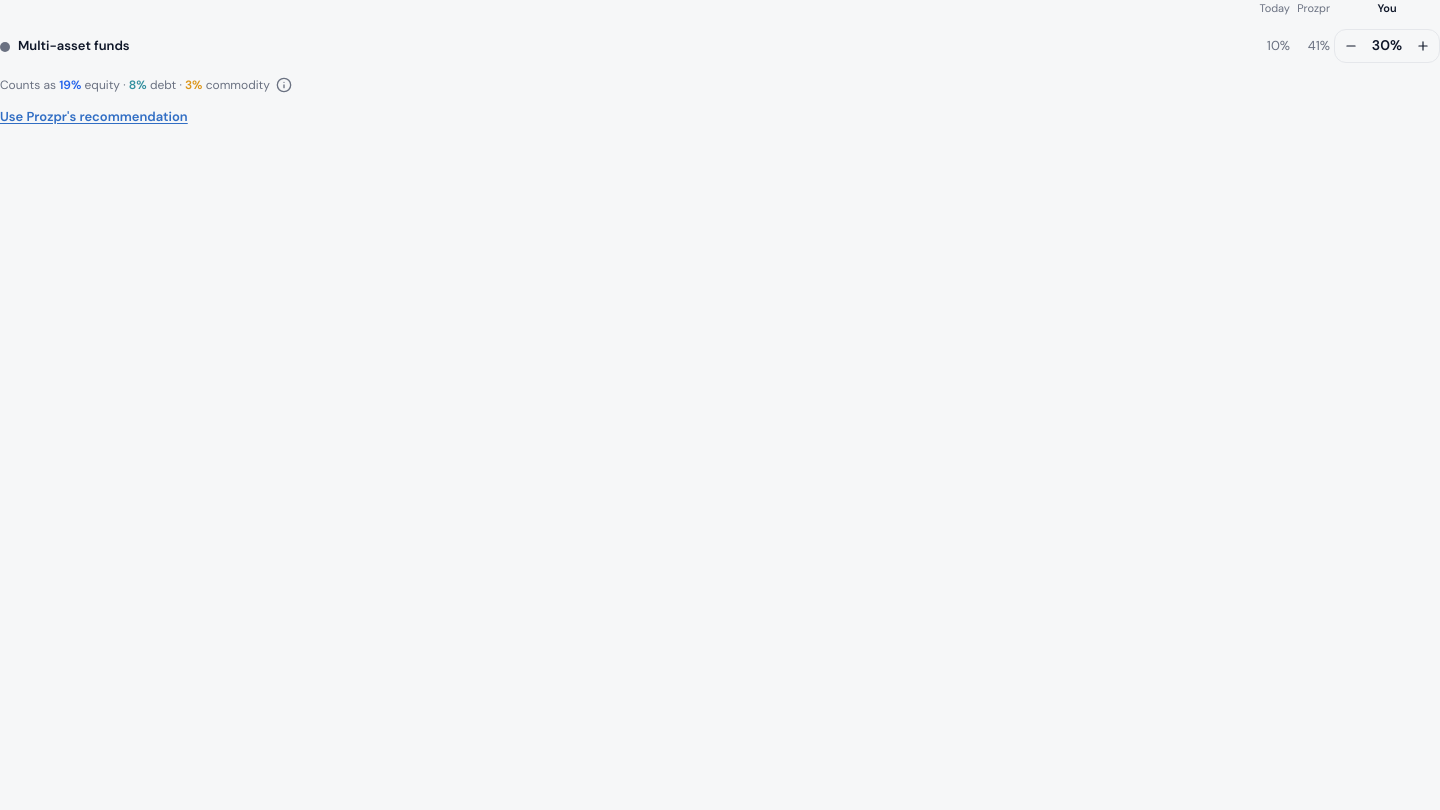
Test: MultiAssetPanel › keeps the fund's make-up and its limit behind the ⓘ
This screenshot has width=1440, height=810.
Expected: the text "One fund with about" is not shown
Click the button named "About multi-asset funds": {"x": 284, "y": 84} [274, 74, 294, 94]
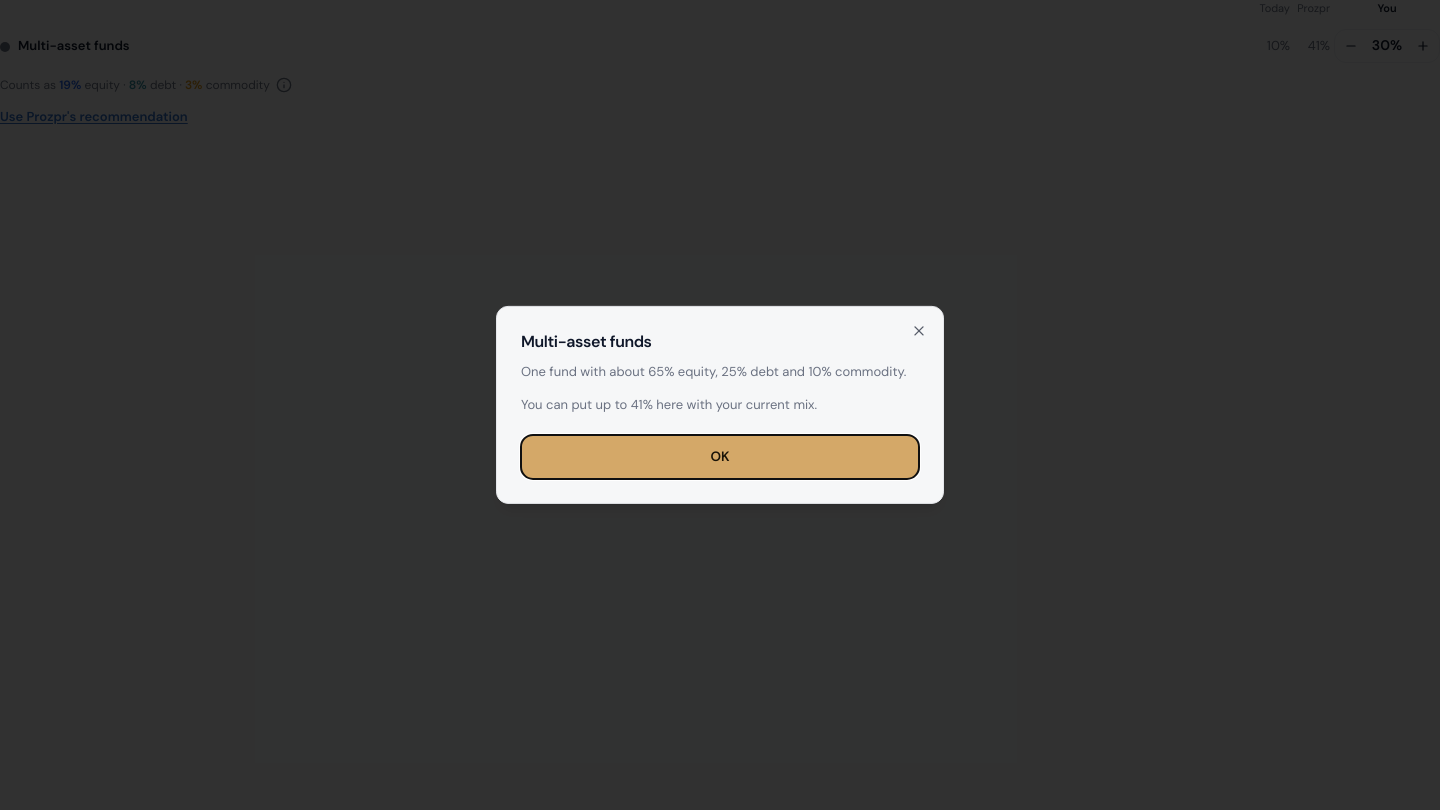
Expected: the dialog "Multi-asset funds" shows "One fund with about 65% equity, 25% debt and 10% commodity.", [521, 363, 906, 380]
Expected: the dialog "Multi-asset funds" shows "You can put up to 41% here with your current mix.", [521, 396, 817, 413]
